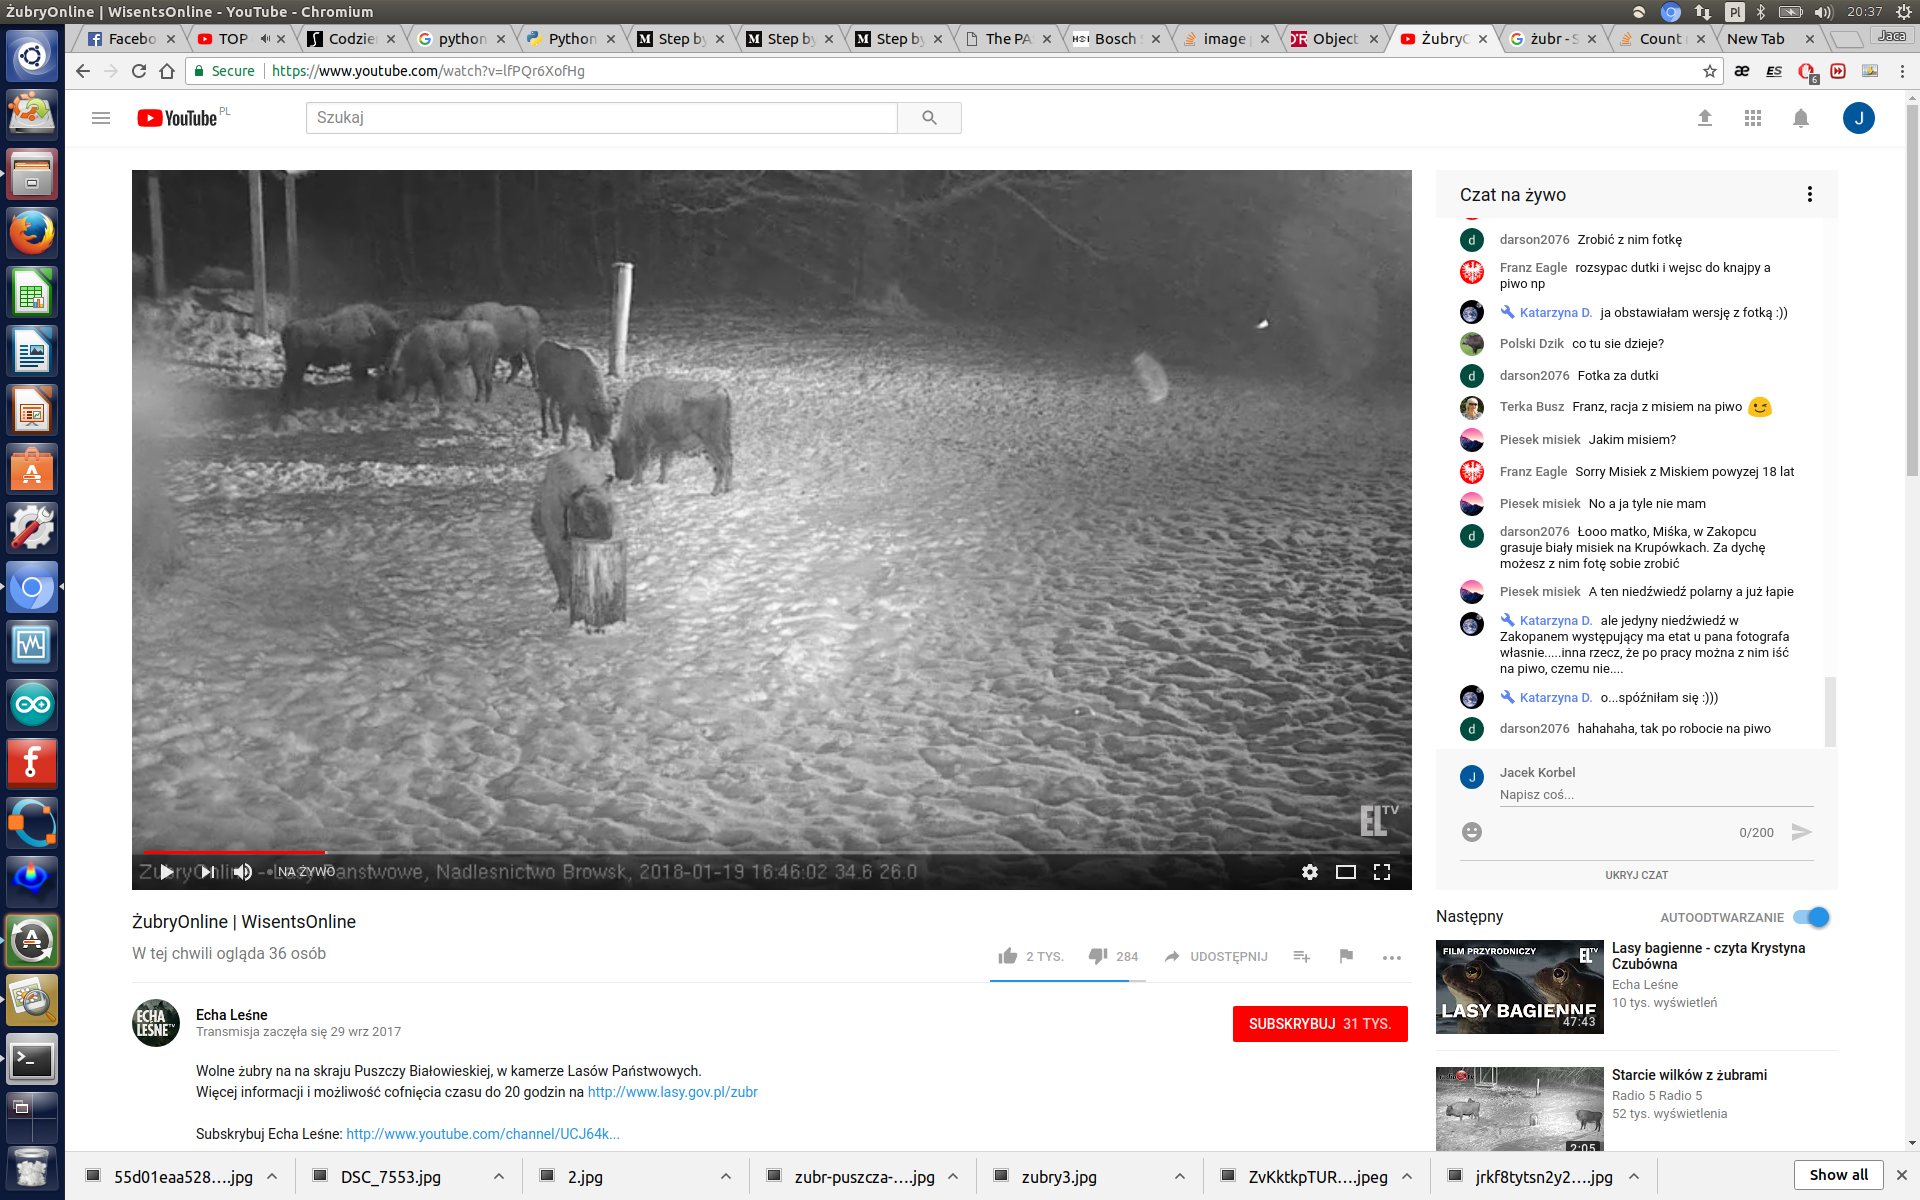zubr: (605, 369, 759, 500), (256, 290, 411, 404), (516, 442, 630, 594), (375, 314, 500, 419), (523, 335, 621, 451)
